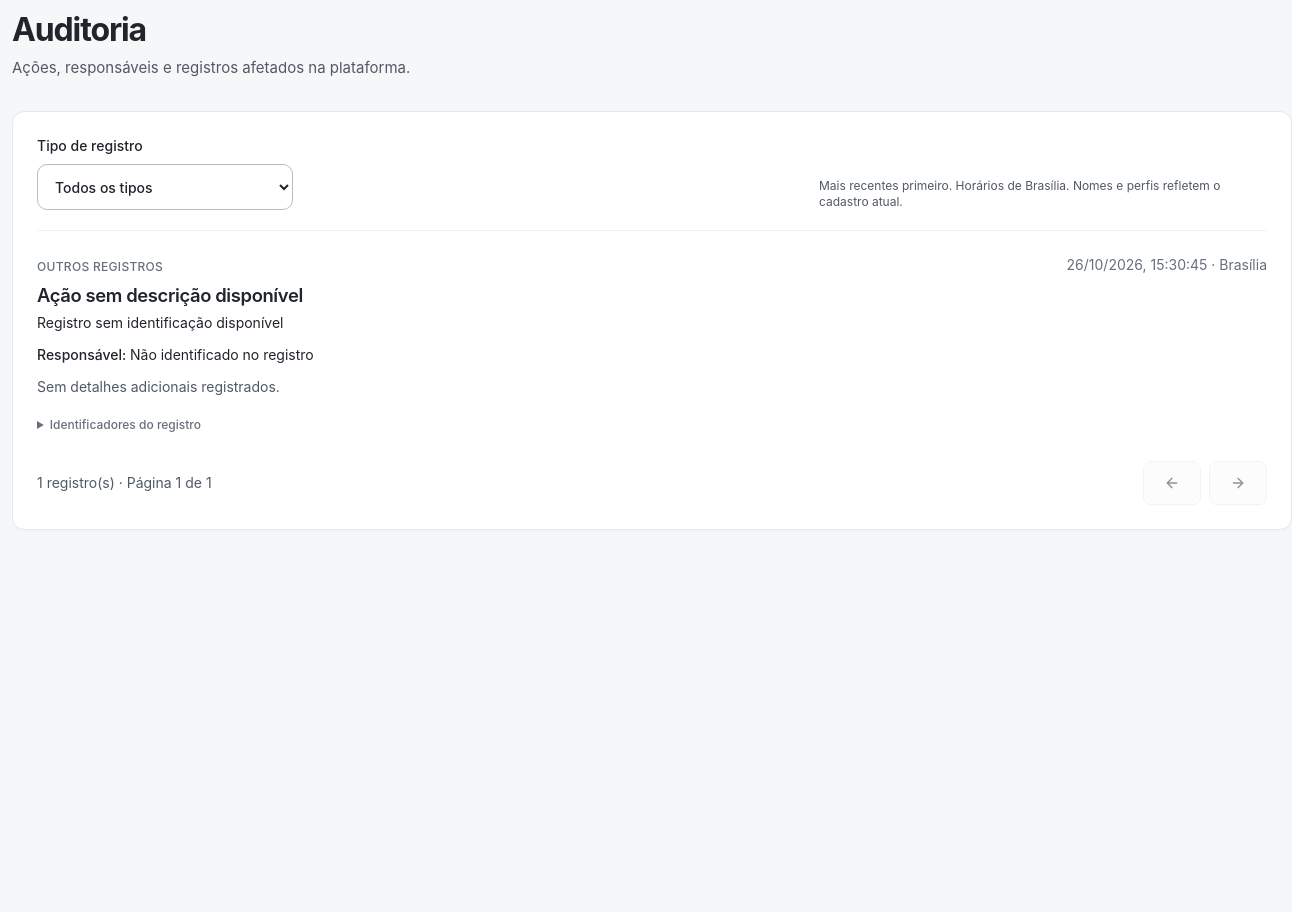
Test: Auditoria do administrador › explicita ausência de identificação e mantém códigos desconhecidos nos detalhes
The image size is (1292, 912).
Expected: the heading "Ação sem descrição disponível" is shown, [37,282,303,309]
Expected: the text "Não identificado no registro" is shown, [130,346,314,363]
Click the heading "Identificadores do registro" at coordinates (125, 425), box [50,417,201,432]
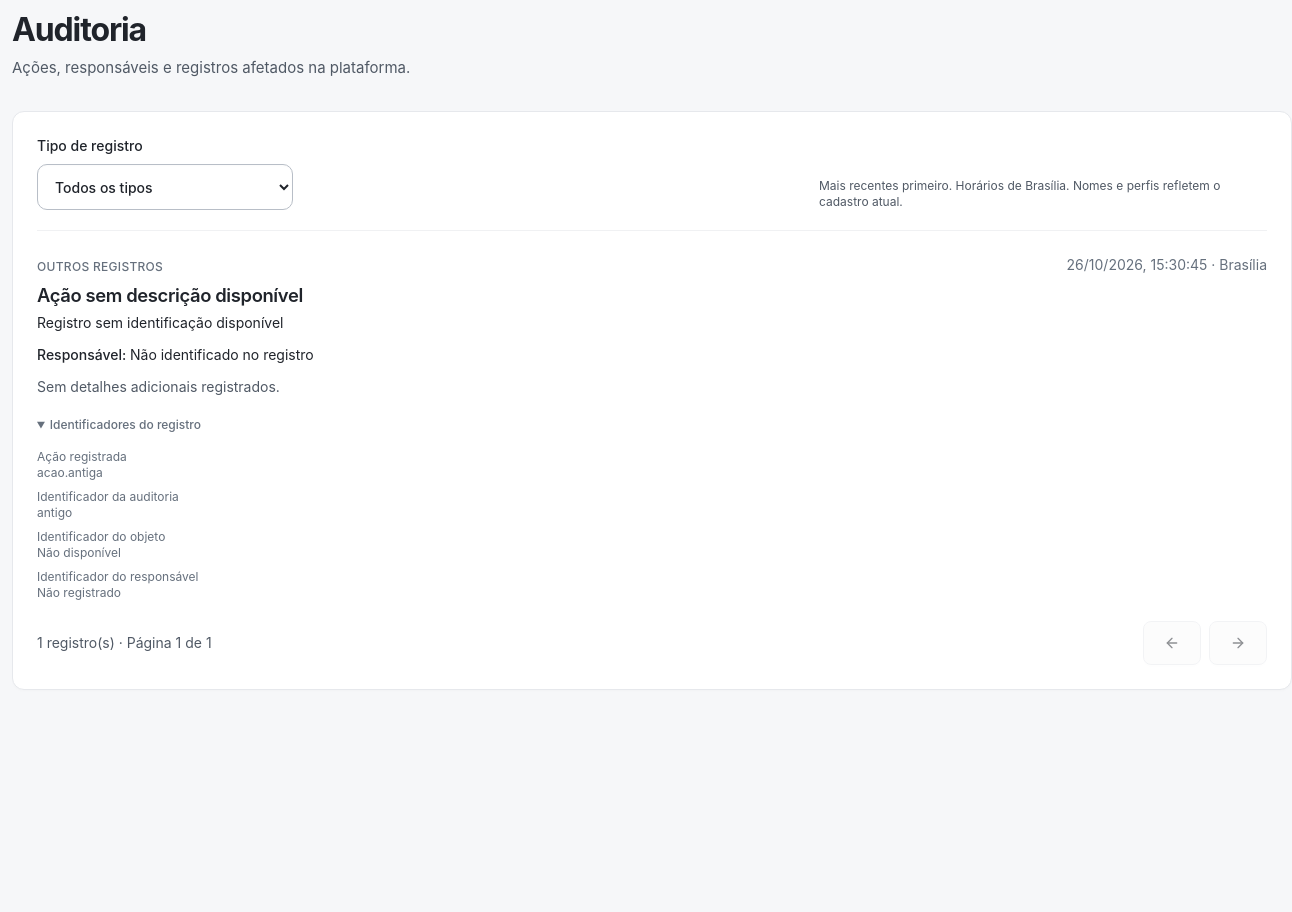
Now the text "acao.antiga" is shown, box [37,465,103,480]
